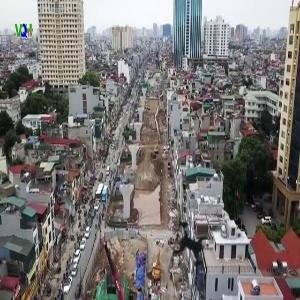drone: (142, 199, 236, 293)
